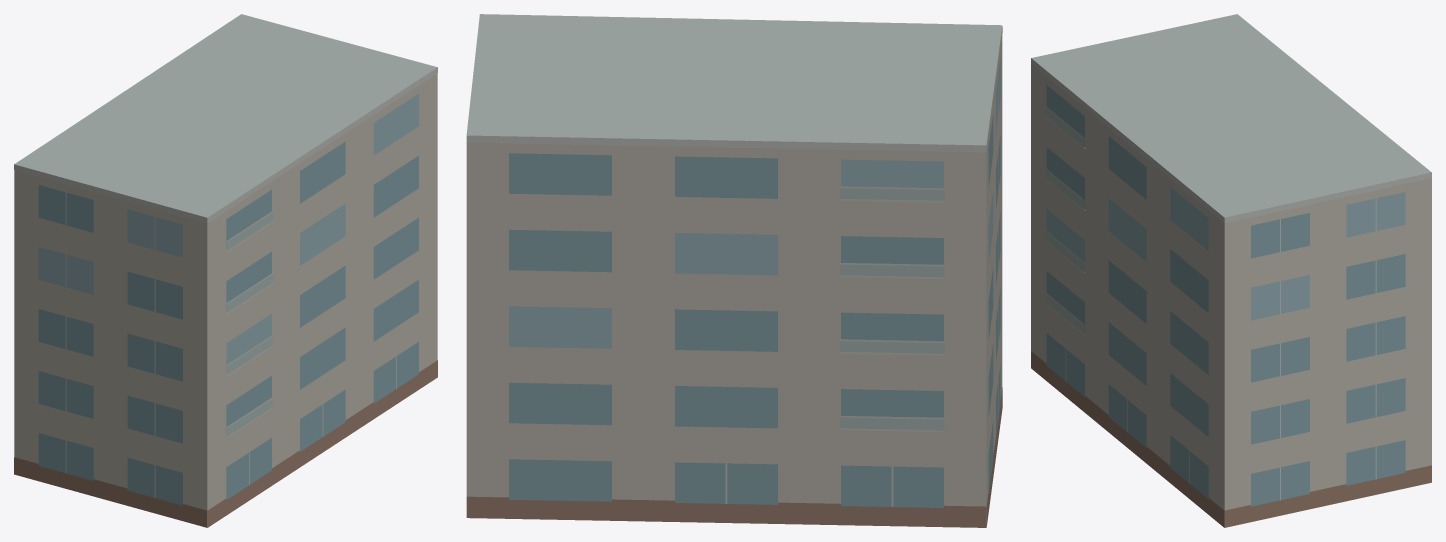
File: survey-upis-32914990.glb
3 renders of one model, left to right at view 1: azimuth 30°, elevation 25°; view 2: azimuth 150°, elevation 25°; view 3: azimuth 270°, elevation 25°, orthographic. The views are drawn at different scales.
Parts seen in each view (by area): view 1: survey-upis-32914990.tmp; view 2: survey-upis-32914990.tmp; view 3: survey-upis-32914990.tmp.
Boxes of the visible parts, x1,y1,x2,y2 form: survey-upis-32914990.tmp: (14, 14, 437, 527); survey-upis-32914990.tmp: (466, 14, 1002, 527); survey-upis-32914990.tmp: (1031, 14, 1431, 527).
Bounding box in the file's own units: 18.74 × 13.3 × 15.58.
